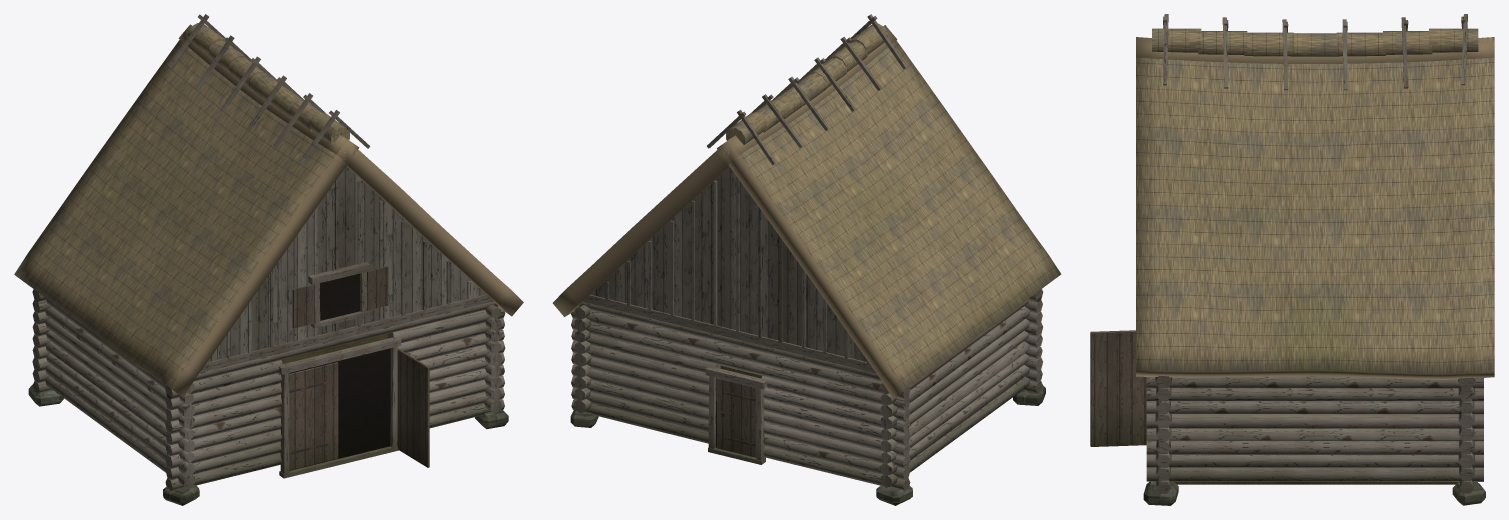
Rendered from log_barn.glb.
3 renders of one model, left to right at view 1: azimuth 30°, elevation 25°; view 2: azimuth 150°, elevation 25°; view 3: azimuth 270°, elevation 25°, orthographic. The views are drawn at different scales.
Parts seen in each view (by area): view 1: LogBarnReedThatch, LogBarnLog, LogBarnBoards, LogBarnOakWeathered, LogBarnOakPlank, LogBarnRecess, LogBarnLimestonePlinth, LogBarnMossCaulk; view 2: LogBarnReedThatch, LogBarnLog, LogBarnBoards, LogBarnOakWeathered, LogBarnOakPlank, LogBarnLimestonePlinth; view 3: LogBarnReedThatch, LogBarnLog, LogBarnOakPlank, LogBarnOakWeathered, LogBarnLimestonePlinth, LogBarnMossCaulk.
Boxes of the visible parts, left/top/right/bottom form: LogBarnReedThatch: left=14, top=23, right=523, bottom=396; LogBarnLog: left=32, top=289, right=505, bottom=490; LogBarnBoards: left=206, top=166, right=485, bottom=363; LogBarnOakWeathered: left=167, top=14, right=493, bottom=478; LogBarnOakPlank: left=289, top=266, right=429, bottom=470; LogBarnRecess: left=289, top=273, right=390, bottom=470; LogBarnLimestonePlinth: left=28, top=384, right=508, bottom=505; LogBarnMossCaulk: left=280, top=333, right=387, bottom=452; LogBarnReedThatch: left=552, top=23, right=1061, bottom=397; LogBarnLog: left=571, top=289, right=1043, bottom=490; LogBarnBoards: left=591, top=167, right=869, bottom=364; LogBarnOakWeathered: left=583, top=14, right=907, bottom=464; LogBarnOakPlank: left=716, top=378, right=756, bottom=457; LogBarnLimestonePlinth: left=570, top=385, right=1045, bottom=505; LogBarnReedThatch: left=1136, top=28, right=1494, bottom=379; LogBarnLog: left=1146, top=376, right=1483, bottom=493; LogBarnOakPlank: left=1090, top=330, right=1146, bottom=446; LogBarnOakWeathered: left=1163, top=14, right=1467, bottom=90; LogBarnLimestonePlinth: left=1143, top=481, right=1485, bottom=505; LogBarnMossCaulk: left=1174, top=481, right=1458, bottom=484.
Bounding box in the file's own units: 9.2 × 8.72 × 8.
Materials: 9 (9 with a texture image).
